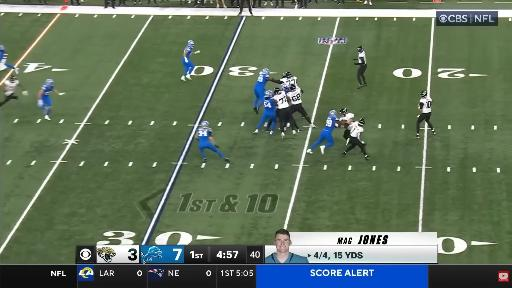Helmet: (340, 108, 349, 117), (188, 40, 194, 50), (201, 120, 209, 127), (329, 110, 337, 117), (285, 71, 293, 78), (420, 91, 427, 99), (46, 79, 53, 86), (358, 118, 365, 125), (280, 83, 287, 90), (289, 84, 296, 91), (266, 91, 274, 97), (358, 46, 364, 53), (275, 88, 281, 95), (262, 69, 270, 74), (10, 75, 15, 82)
Jersey: (274, 91, 289, 109), (350, 121, 364, 140), (287, 87, 301, 105), (255, 72, 268, 89), (5, 80, 19, 95), (324, 117, 338, 132), (419, 97, 432, 113), (198, 127, 211, 142), (264, 98, 275, 114), (280, 77, 297, 86), (42, 84, 53, 96), (184, 45, 193, 59), (358, 51, 366, 64), (341, 113, 354, 121), (0, 46, 6, 59)
Player: (307, 110, 338, 154), (196, 121, 229, 162), (287, 84, 316, 127), (274, 84, 296, 138), (254, 69, 280, 114), (38, 79, 65, 120), (280, 82, 302, 132), (343, 119, 369, 160), (254, 91, 276, 134), (416, 91, 436, 138), (181, 40, 200, 81), (0, 75, 22, 106), (354, 46, 367, 89), (0, 45, 19, 74), (340, 108, 354, 145), (280, 71, 297, 86), (280, 72, 297, 86)
